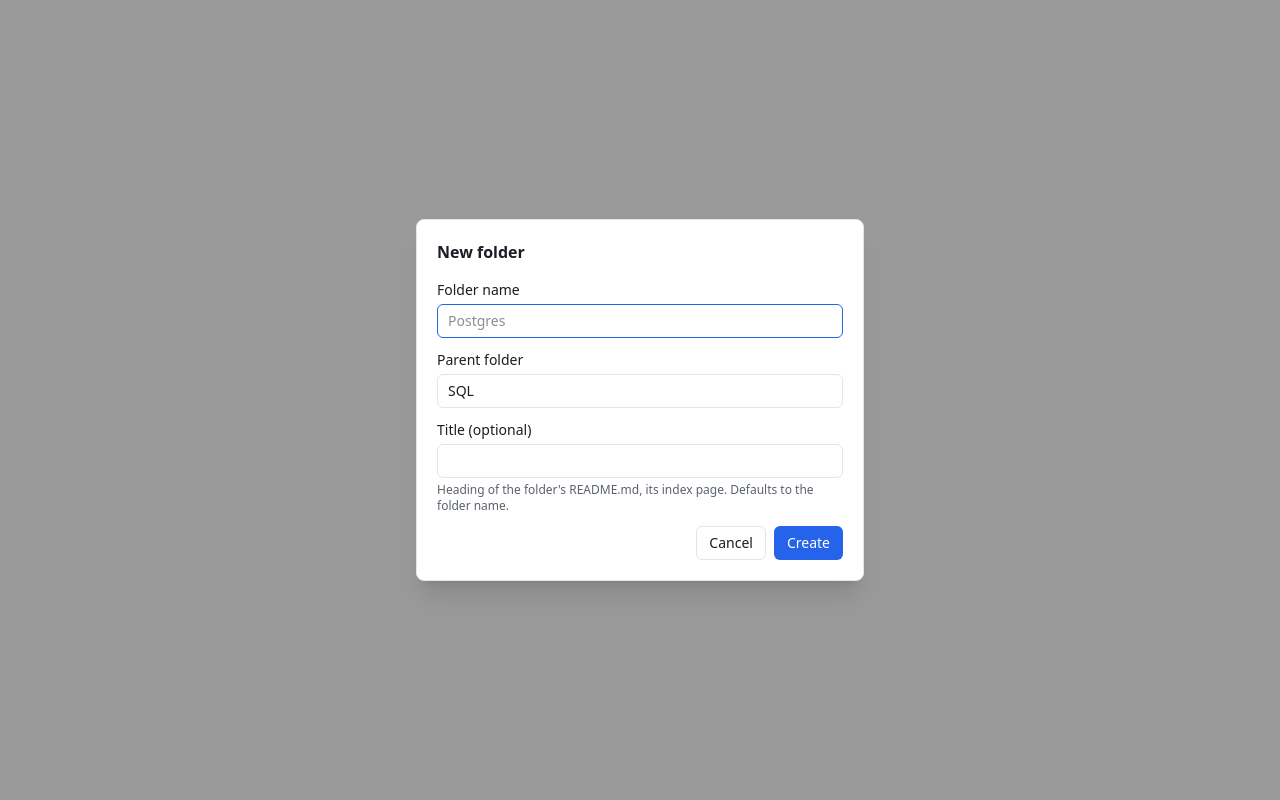
it: NewFolderDialog › validates a:b
The width and height of the screenshot is (1280, 800).
Step 1. Type "a:b" into the field labelled "Folder name" → coordinates (640, 321), box [437, 304, 843, 338]
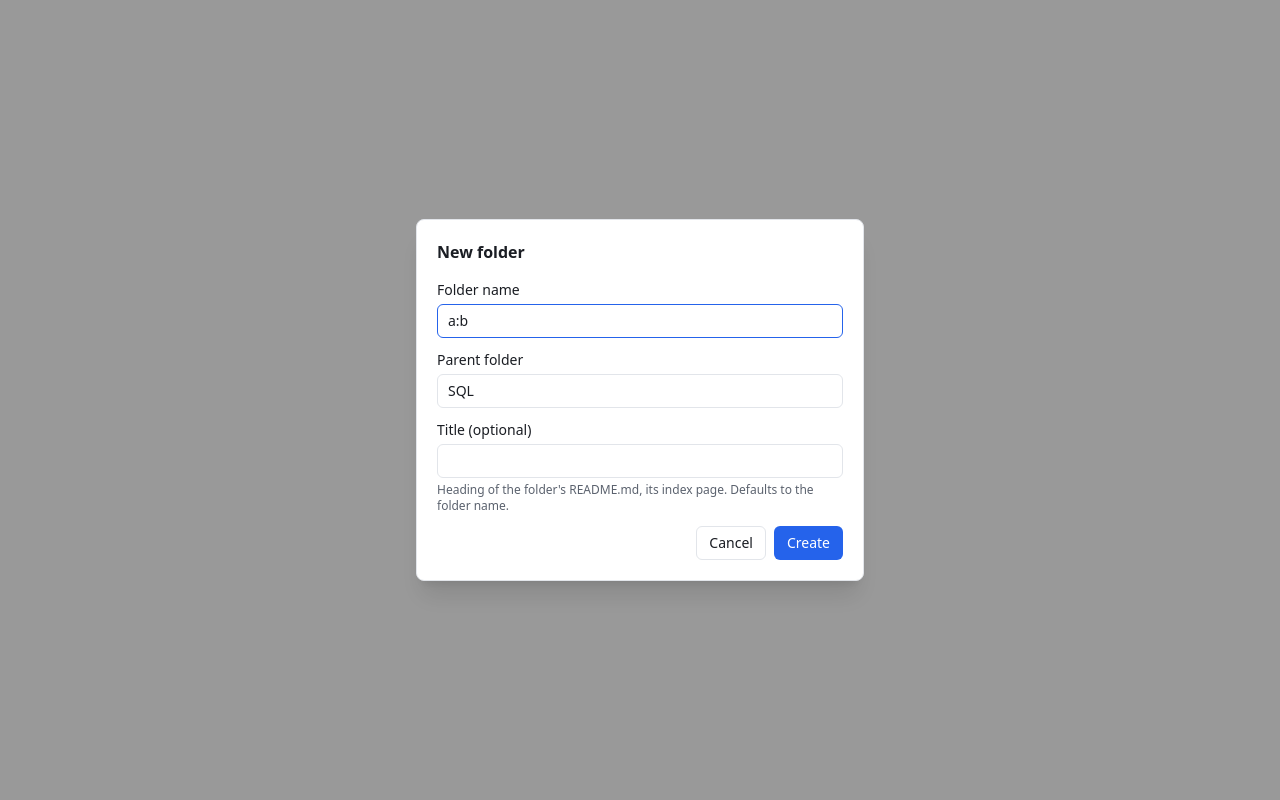
Step 2. Click the button "Create" → coordinates (808, 543), box [774, 526, 843, 560]
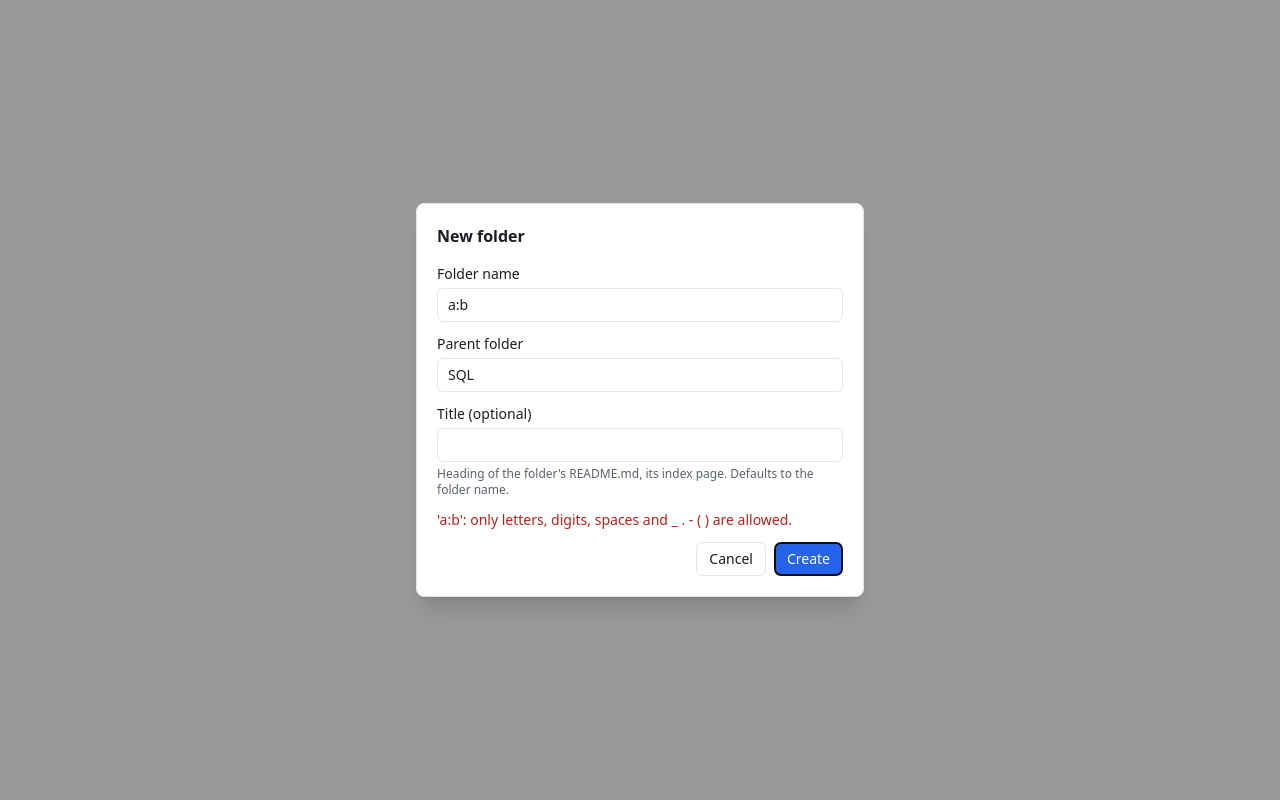
Now the message shows "only letters", box [437, 510, 792, 529]
